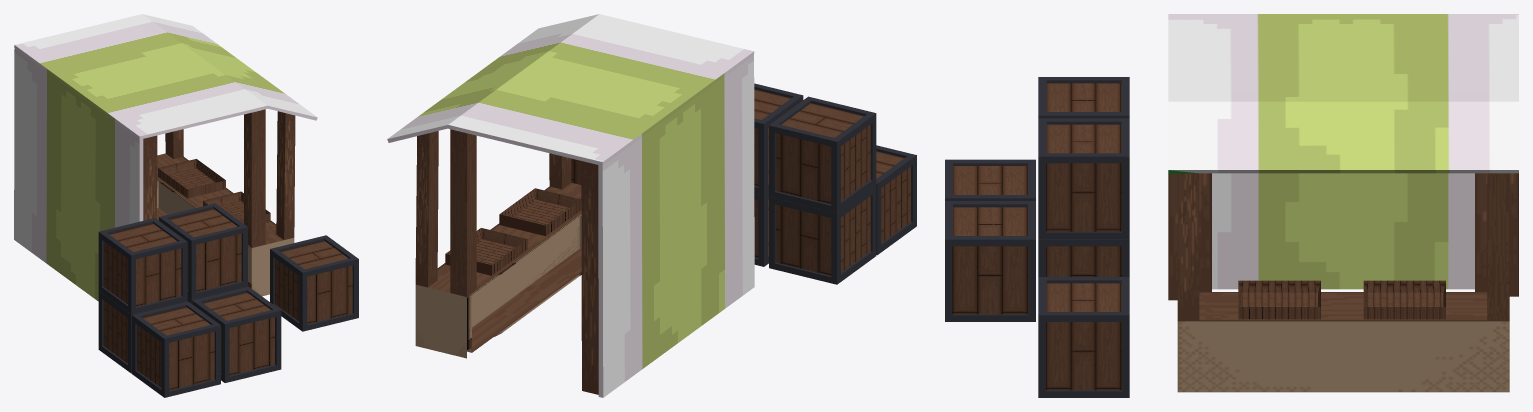
File: Shop1.fbx
3 views of the same model, side by side, from view 1: azimuth 30°, elevation 25°; view 2: azimuth 150°, elevation 25°; view 3: azimuth 270°, elevation 25° (orthographic). The views are drawn at different scales.
Visible parts, largest first — view 1: Cube.050; view 2: Cube.050; view 3: Cube.050.
Boxes of the visible parts, x1=… form: Cube.050: x1=14, y1=14, x2=358, y2=397; Cube.050: x1=387, y1=14, x2=916, y2=397; Cube.050: x1=945, y1=14, x2=1518, y2=397.
Bounding box in the file's own units: 116 × 93.12 × 176.
Materials: 18 (18 with a texture image).
